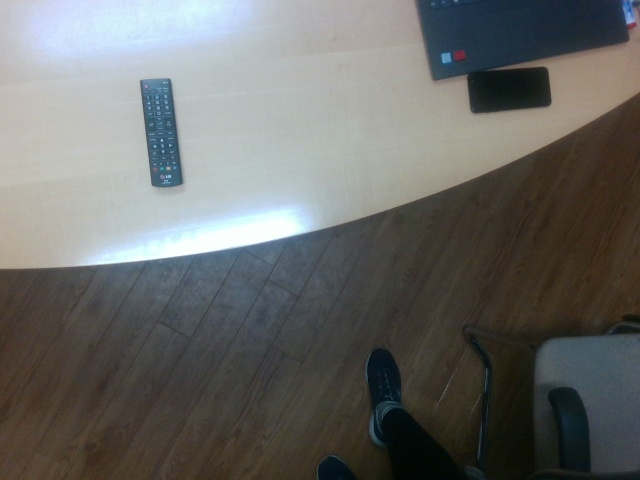remote: (139, 78, 183, 189)
